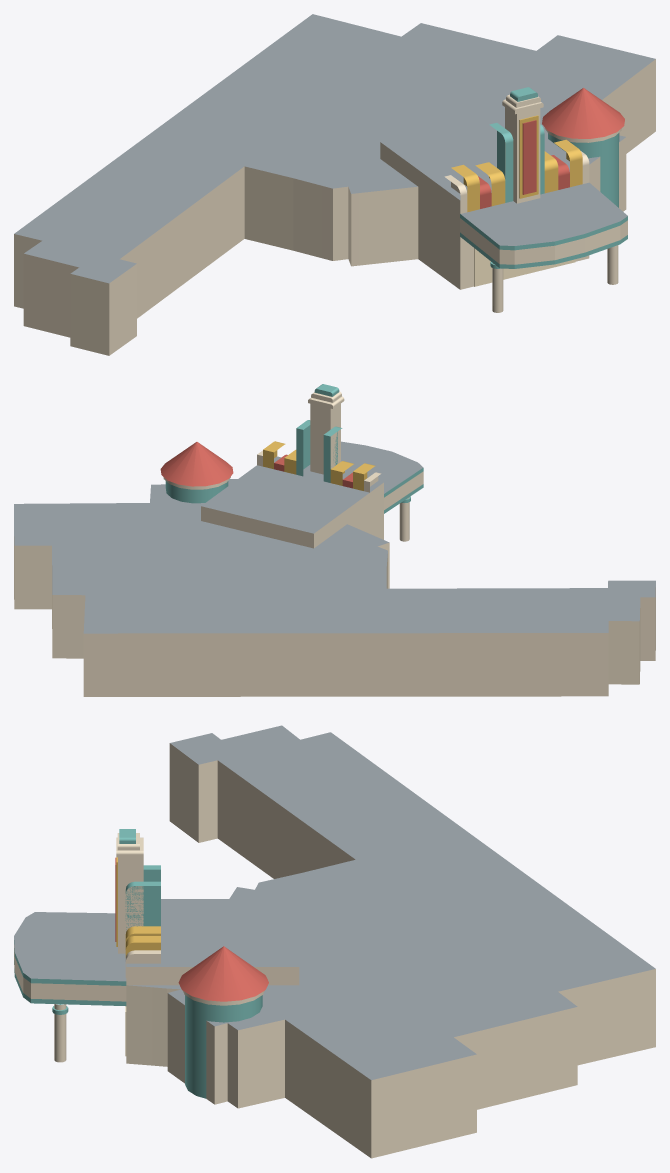
The model's file is dlr-toontown-el-capitoon.glb.
The picture shows the model from 3 angles, top to bottom: view 1: azimuth 30°, elevation 25°; view 2: azimuth 150°, elevation 25°; view 3: azimuth 270°, elevation 25°; orthographic projection. The views are drawn at different scales.
Visible parts, largest first — view 1: El CapiToon Theater; view 2: El CapiToon Theater; view 3: El CapiToon Theater.
Part boxes in pixels (x1,y1,x2,y2): El CapiToon Theater: [14, 14, 655, 355]; El CapiToon Theater: [14, 384, 655, 696]; El CapiToon Theater: [14, 725, 655, 1158].
Bounding box in the file's own units: 58.34 × 15.05 × 44.6.
